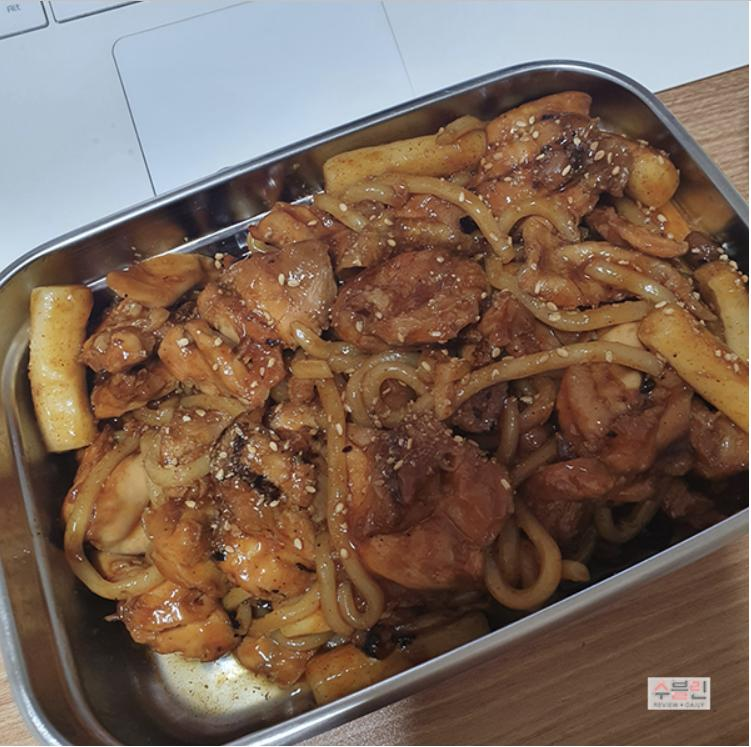Lunch Box: (0, 61, 750, 746)
